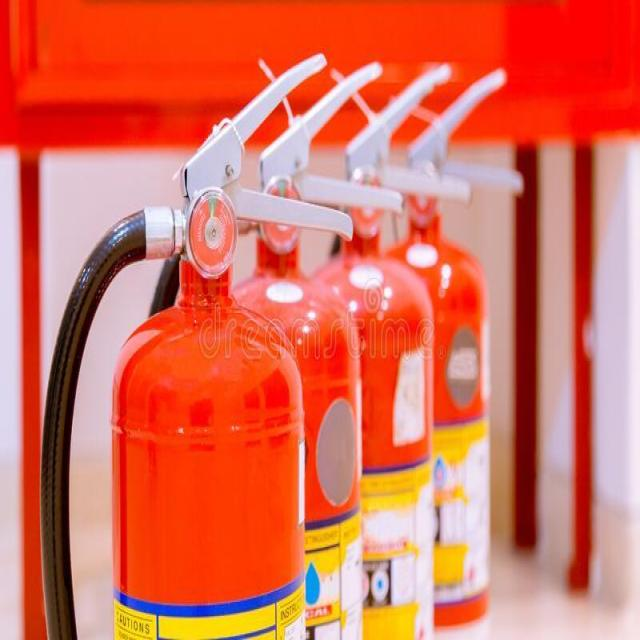fire_extinguisher: (31, 26, 357, 638), (145, 36, 408, 638), (243, 51, 472, 638)
